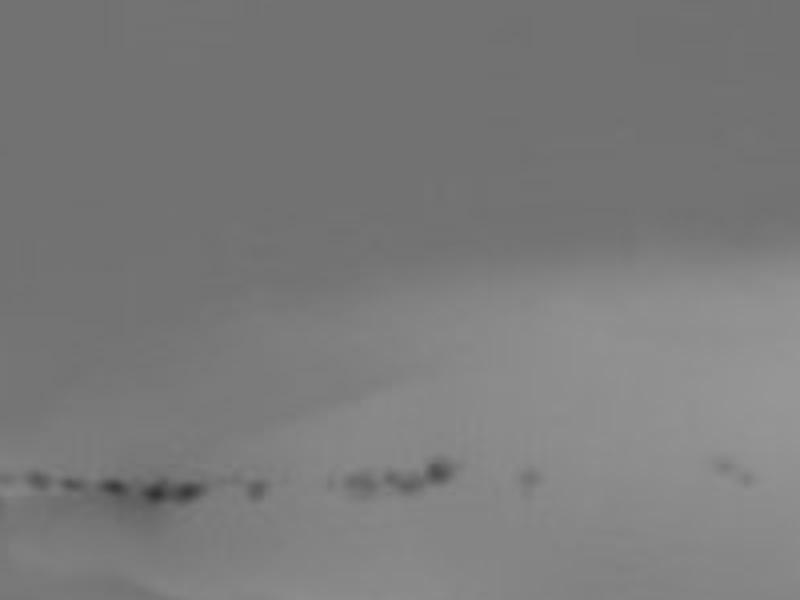defect: (340, 467, 381, 502), (385, 469, 423, 496), (426, 460, 455, 483), (169, 481, 204, 500), (245, 480, 270, 504), (29, 471, 54, 493), (709, 454, 737, 473), (144, 482, 168, 504), (98, 478, 129, 495), (518, 469, 543, 488), (62, 477, 88, 492), (736, 473, 756, 486)
